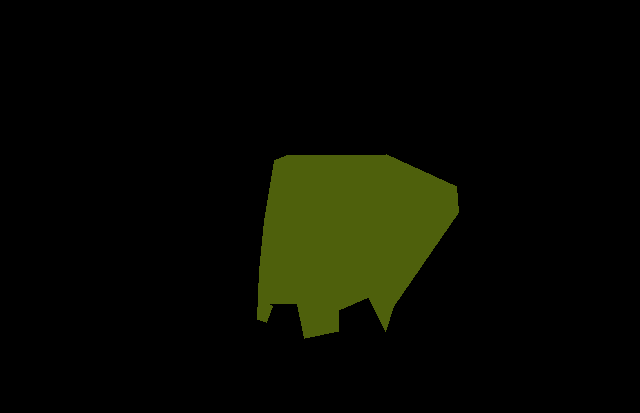Train: (257, 154, 459, 339)
